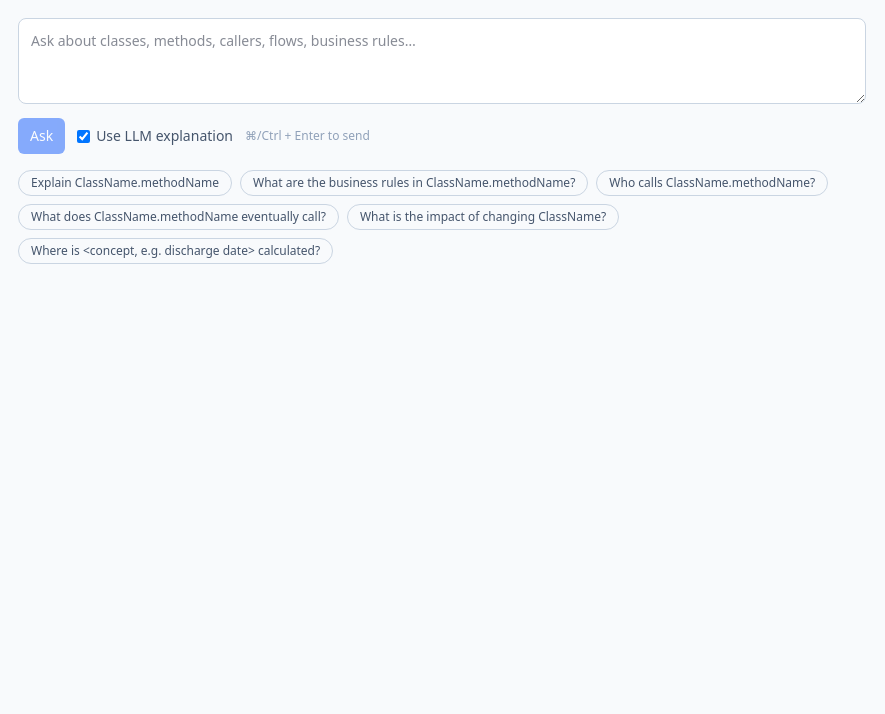
Test: AskPage › renders the source code with comment and condition lines
In the text box named "Question": (442, 61) [18,18,866,104], type "Explain A.run"
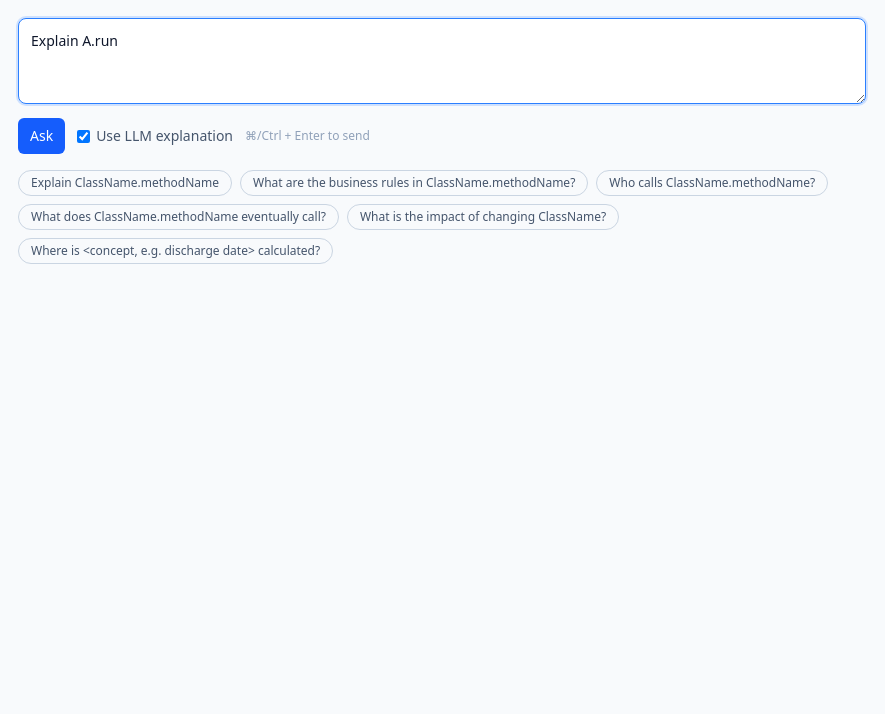
Click the button "Ask": (42, 136) [18,118,65,154]
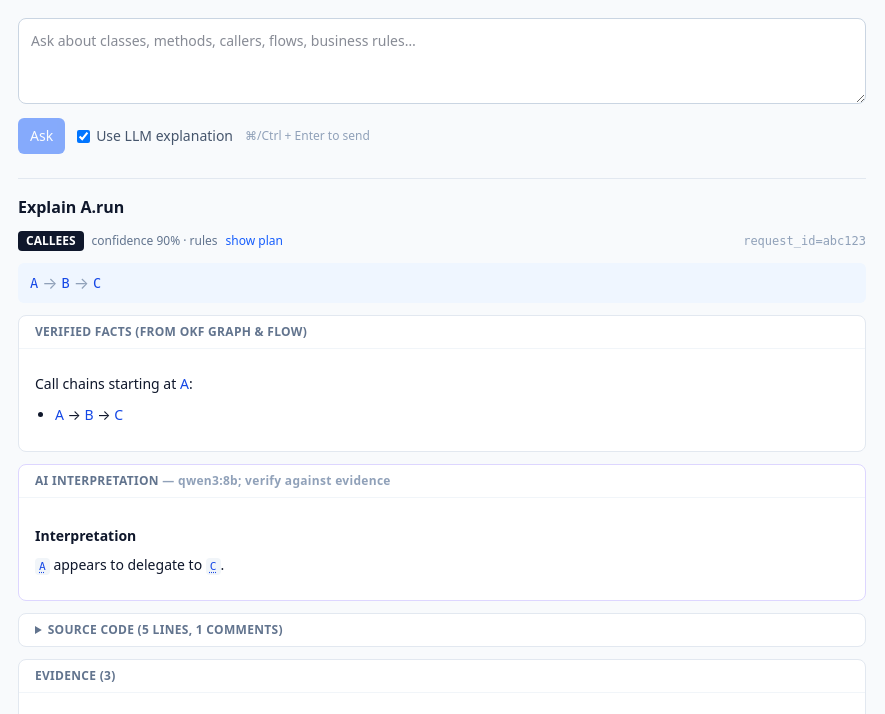
Expected: the heading "Source code (5 lines, 1 comments)" is shown, [48,621,283,638]
